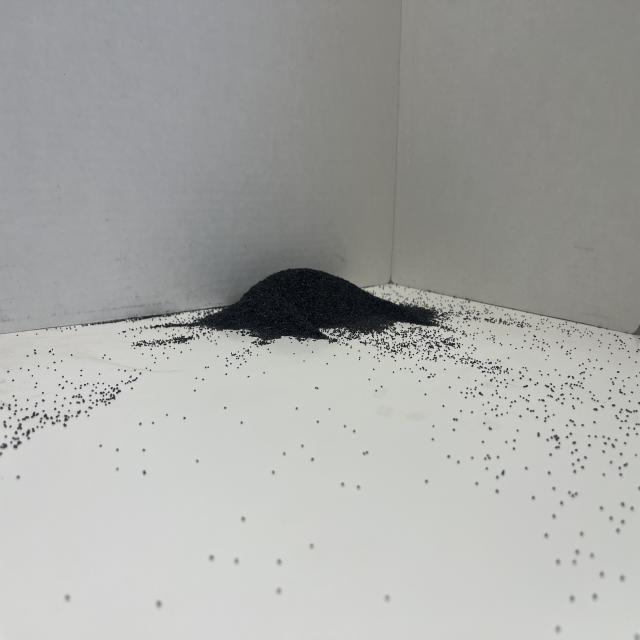Poppy Seeds: (205, 231, 428, 351)
